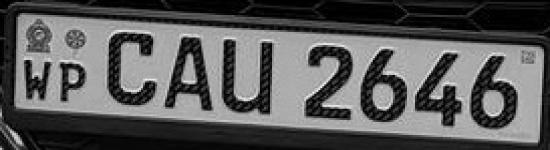2: (303, 46, 352, 119)
4: (416, 50, 462, 126)
6: (469, 54, 517, 128), (360, 48, 407, 121)
A: (167, 36, 213, 110)
C: (109, 31, 156, 104)
P: (60, 62, 86, 100)
U: (224, 38, 271, 113)
W: (24, 57, 51, 100)
